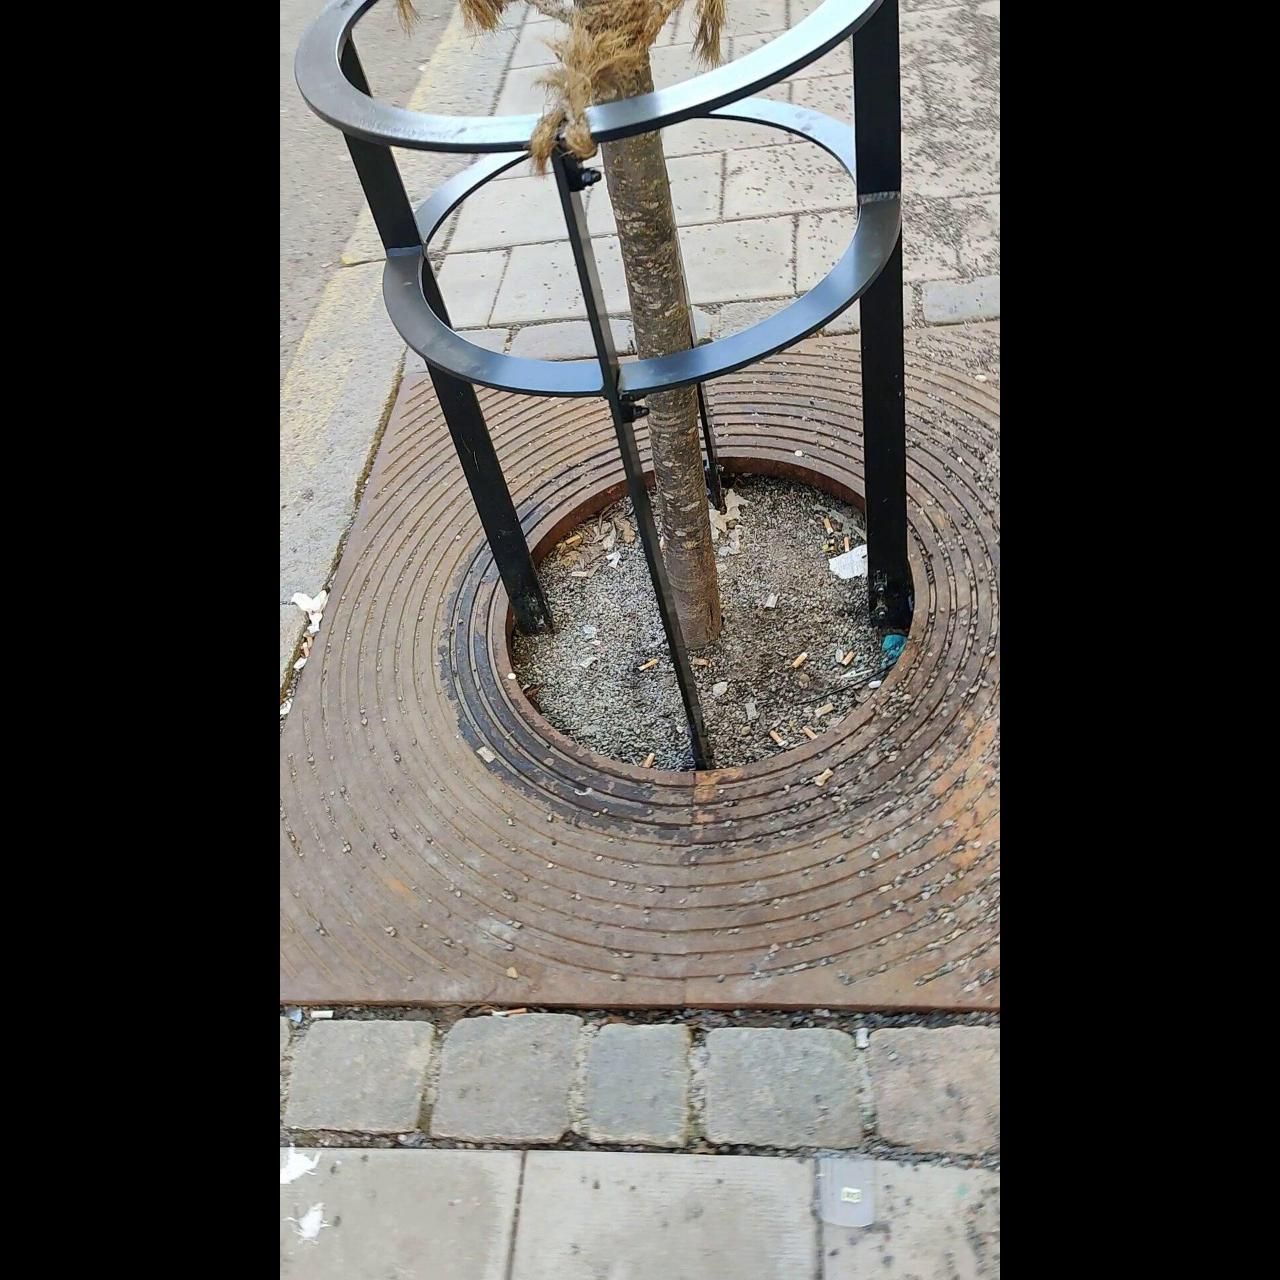cigarettes_butts: (490, 1003, 532, 1019), (295, 632, 315, 658), (768, 728, 788, 750), (308, 1008, 336, 1022), (790, 650, 809, 670), (815, 767, 833, 785), (634, 659, 656, 673), (842, 647, 856, 667), (561, 534, 583, 546), (802, 722, 816, 740), (642, 749, 654, 769), (821, 518, 834, 536), (842, 538, 849, 554)
others: (474, 746, 498, 766), (854, 1024, 870, 1052), (815, 703, 837, 719), (763, 590, 779, 612)
